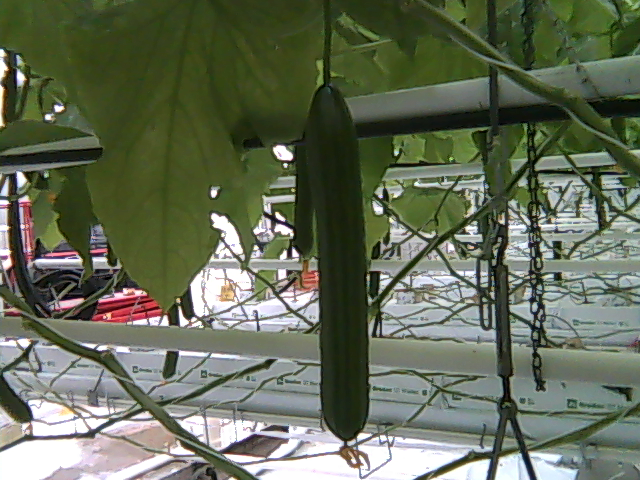concombre: (297, 69, 371, 472)
